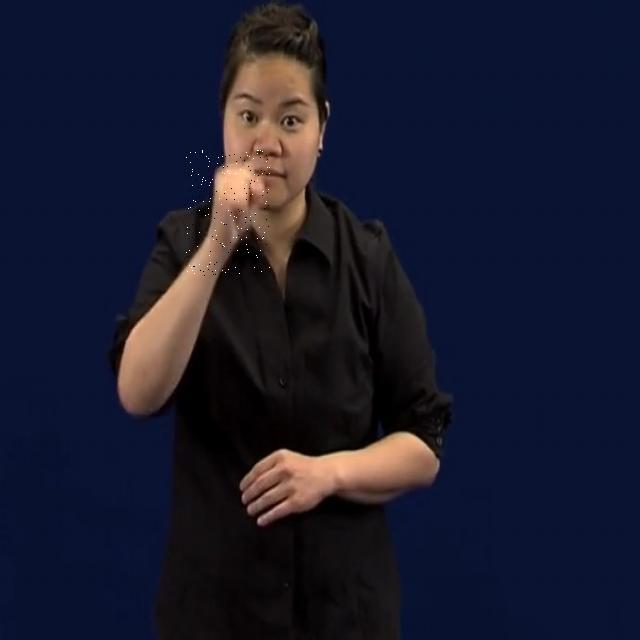icecream: (186, 150, 270, 276)
